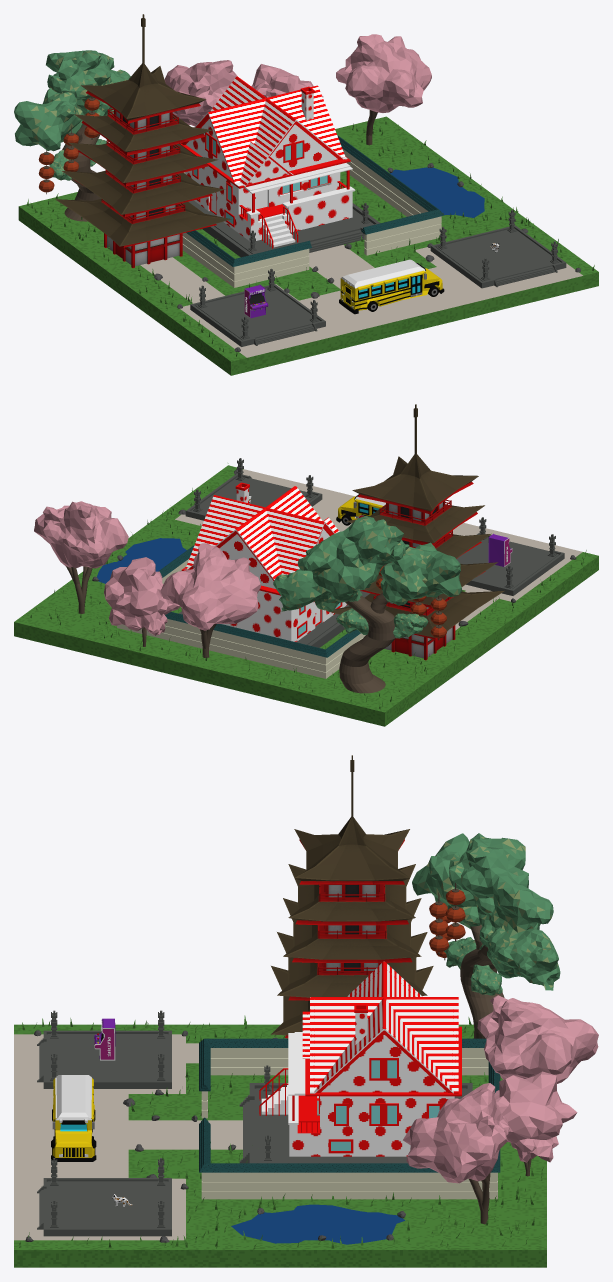
3 views of the same model, one above another, from view 1: azimuth 30°, elevation 25°; view 2: azimuth 150°, elevation 25°; view 3: azimuth 270°, elevation 25° (orthographic). The views are drawn at different scales.
Parts seen in each view (by area): view 1: Cube.005, Cube.196, VEHICLES_SCHOOL_BUS, OBJRANDOM_ARCADE; view 2: Cube.005, Cube.196, VEHICLES_SCHOOL_BUS, OBJRANDOM_ARCADE; view 3: Cube.005, Cube.196, VEHICLES_SCHOOL_BUS, OBJRANDOM_ARCADE.
Part boxes in pixels (x1,y1,x2,y2): Cube.005: [14, 14, 598, 375]; Cube.196: [179, 76, 355, 248]; VEHICLES_SCHOOL_BUS: [339, 259, 444, 314]; OBJRANDOM_ARCADE: [244, 284, 268, 318]; Cube.005: [14, 404, 598, 726]; Cube.196: [181, 482, 347, 641]; VEHICLES_SCHOOL_BUS: [336, 494, 385, 525]; OBJRANDOM_ARCADE: [488, 533, 512, 566]; Cube.005: [14, 755, 598, 1267]; Cube.196: [259, 961, 461, 1156]; VEHICLES_SCHOOL_BUS: [51, 1075, 96, 1161]; OBJRANDOM_ARCADE: [94, 1018, 115, 1060].
Bounding box in the file's own units: 4528 × 2640 × 4389.
Materials: 45 (7 with a texture image).
